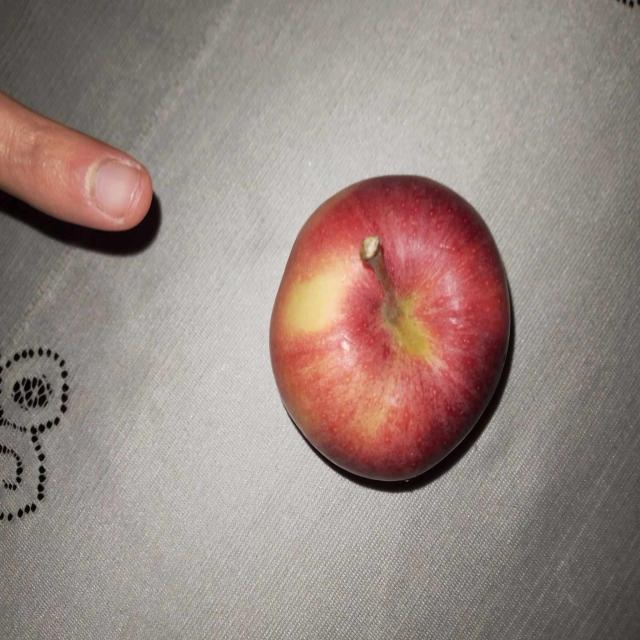Apple: (255, 152, 538, 502)
Finger: (6, 94, 162, 256)
